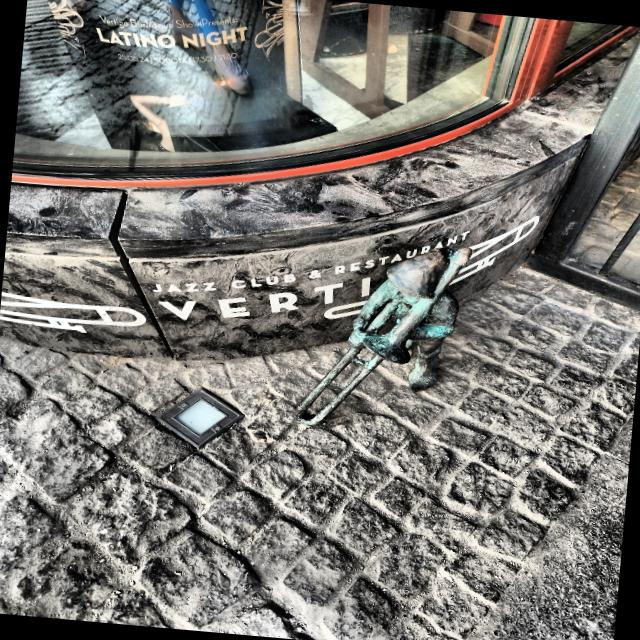Vertigus: (295, 247, 472, 426)
